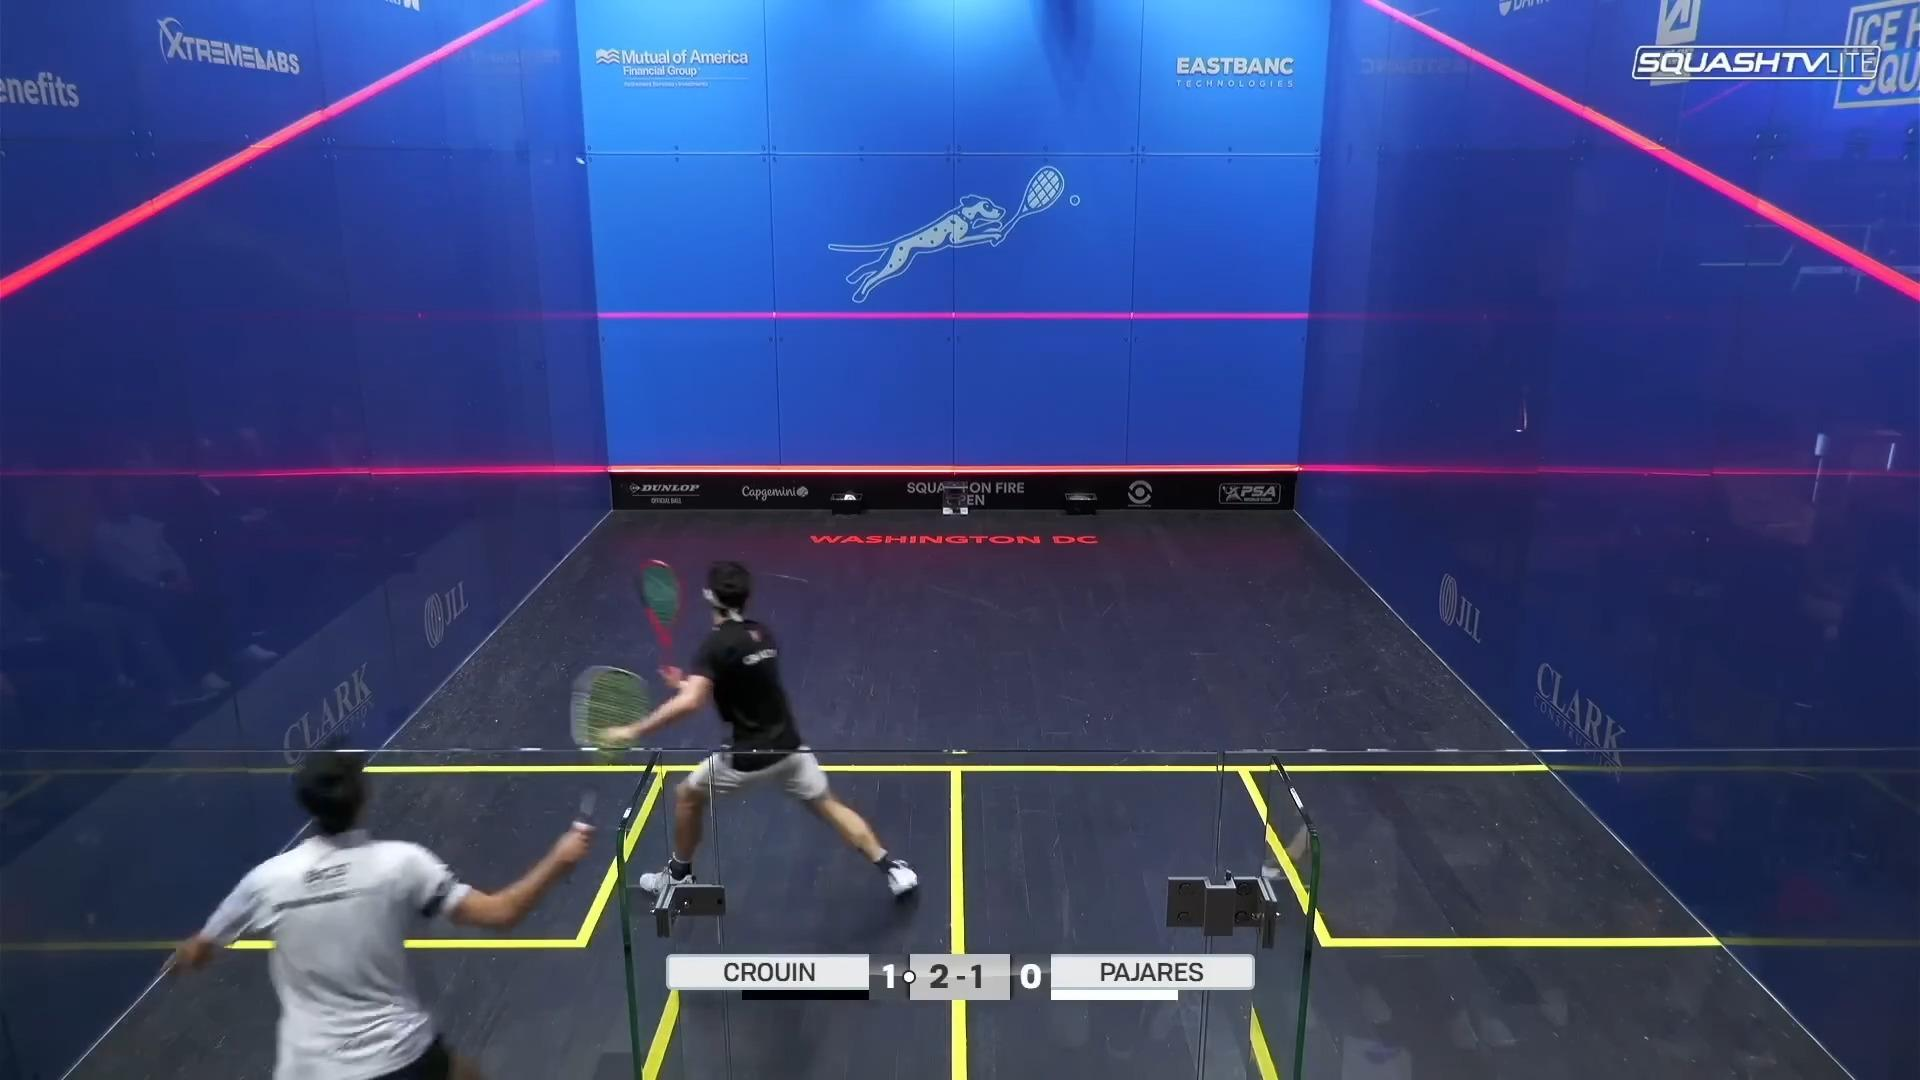Squash-Ball: (568, 146, 593, 175)
